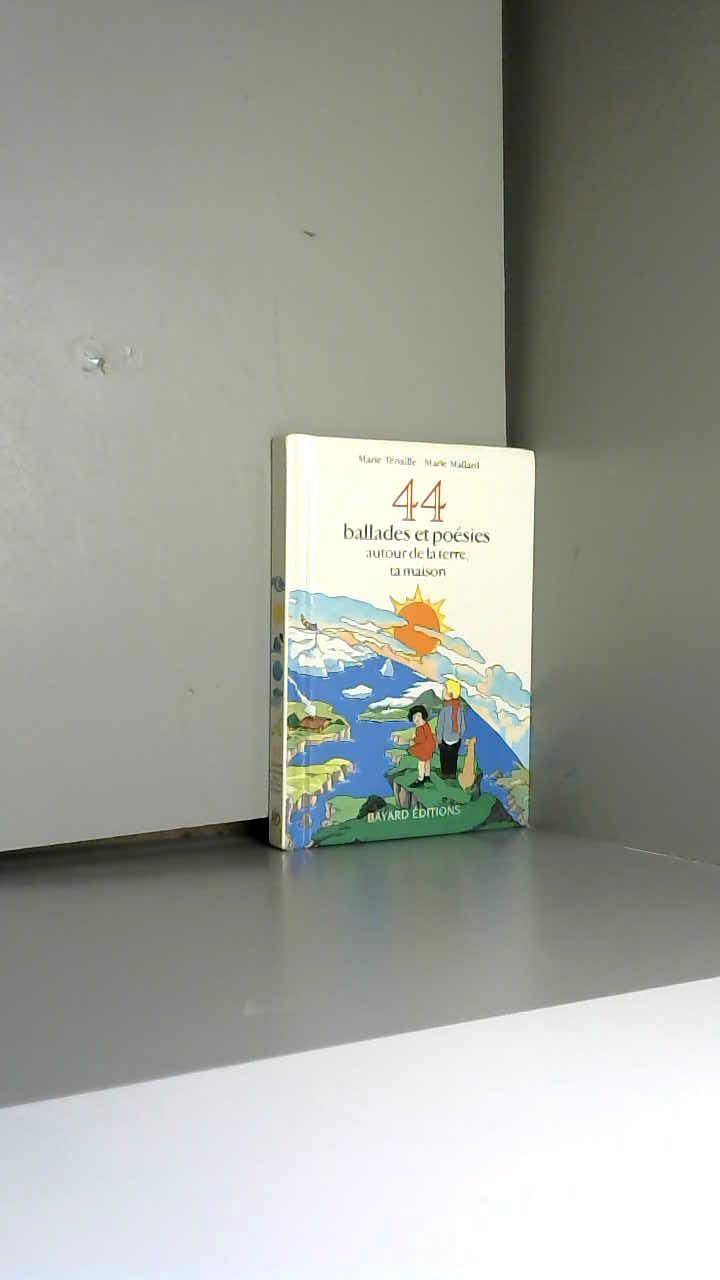book: (233, 393, 571, 888)
